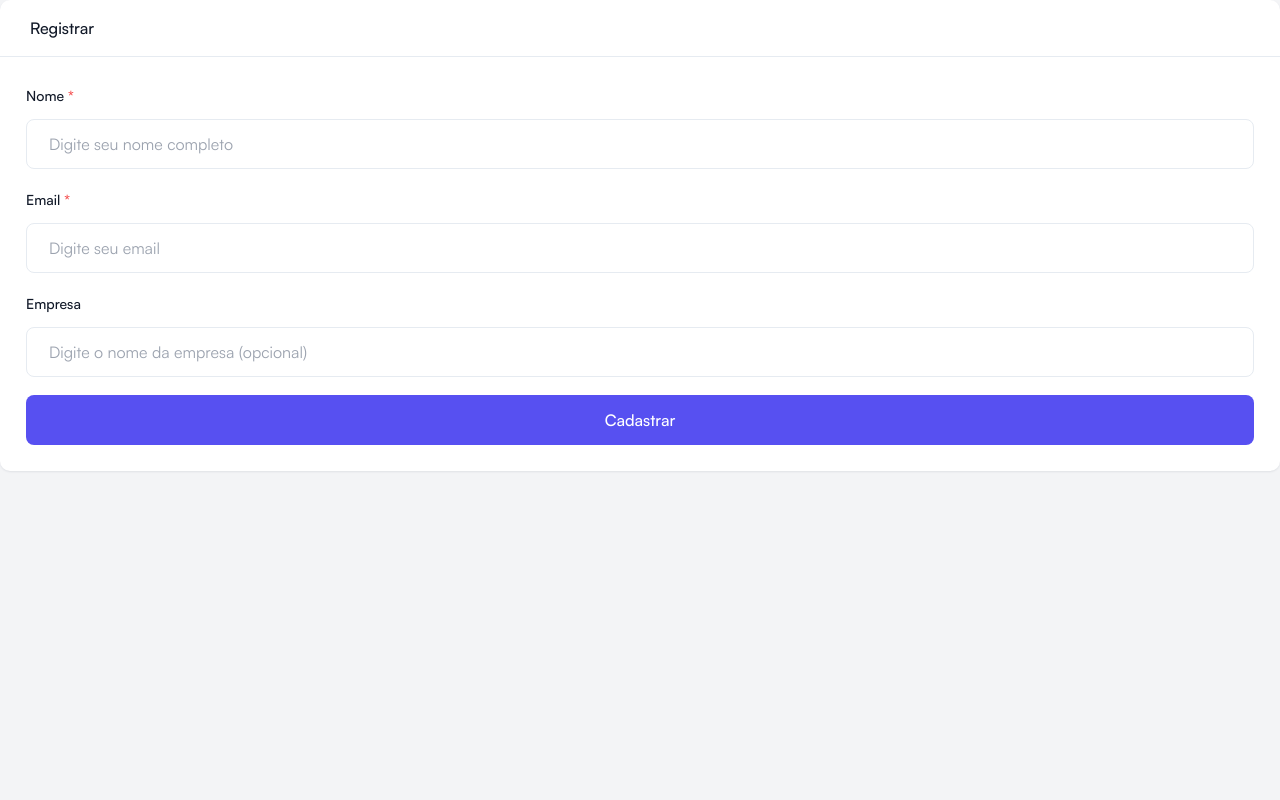
Test: RegisterPage › deve exibir mensagem de erro quando registro falha
Step 1. Type "João Silva" into the field labelled "Nome*" → [640, 144], box [26,119,1254,169]
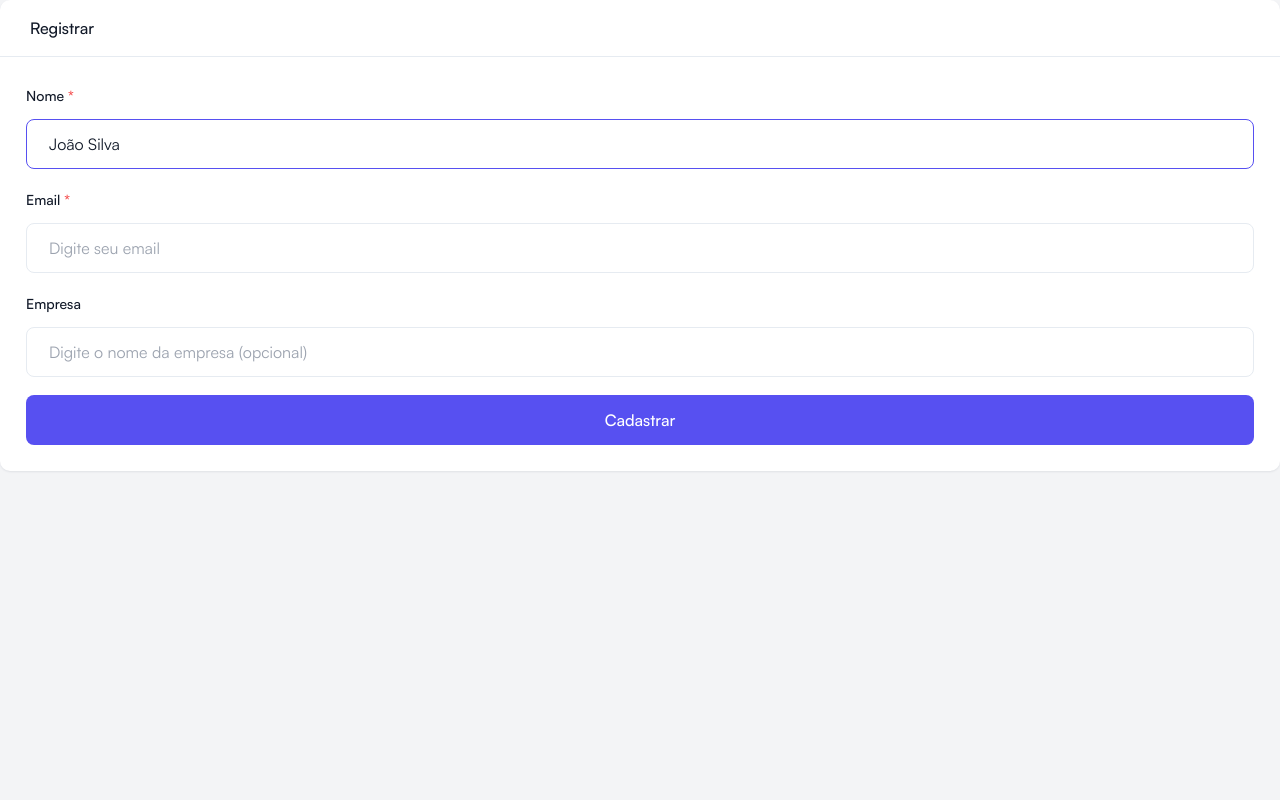
Step 2. Type "joao@example.com" into the field labelled "Email*" → [640, 248], box [26,223,1254,273]
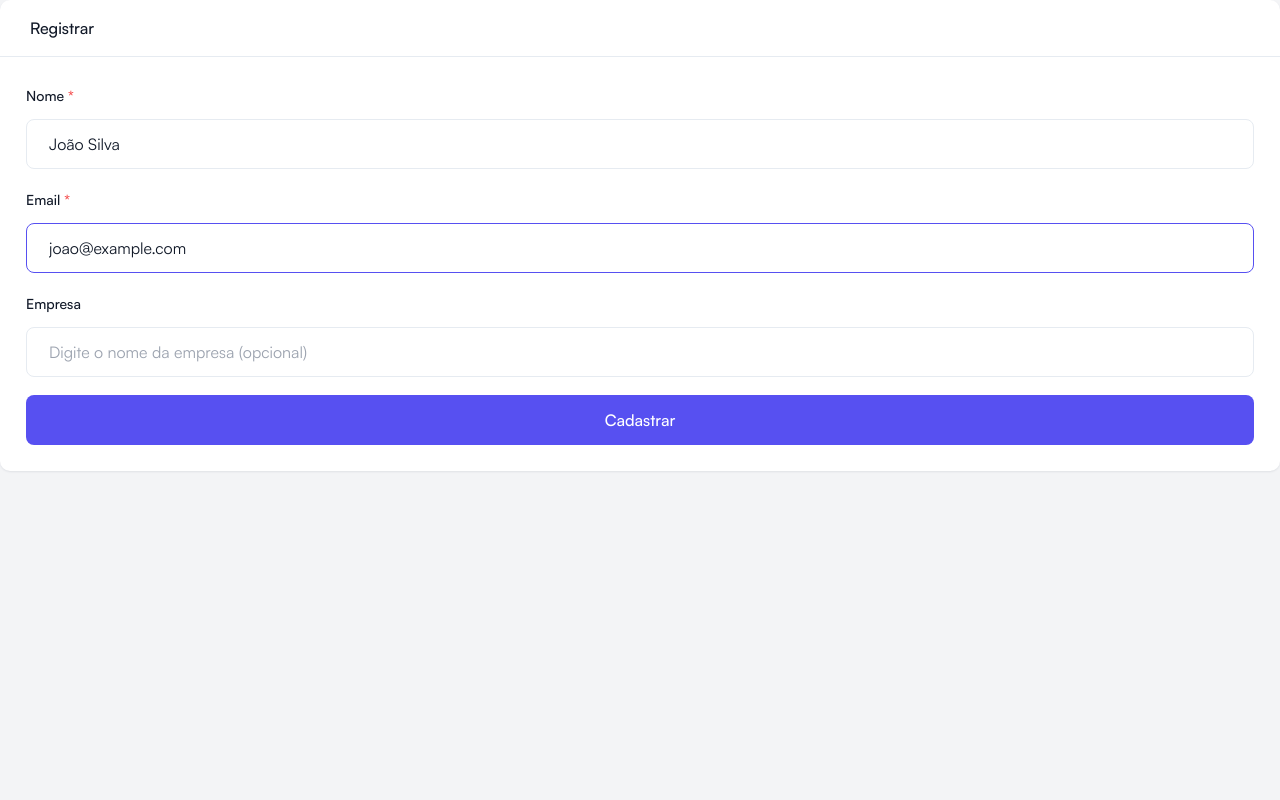
Step 3. Click the button "Cadastrar" → [640, 420], box [26,395,1254,445]
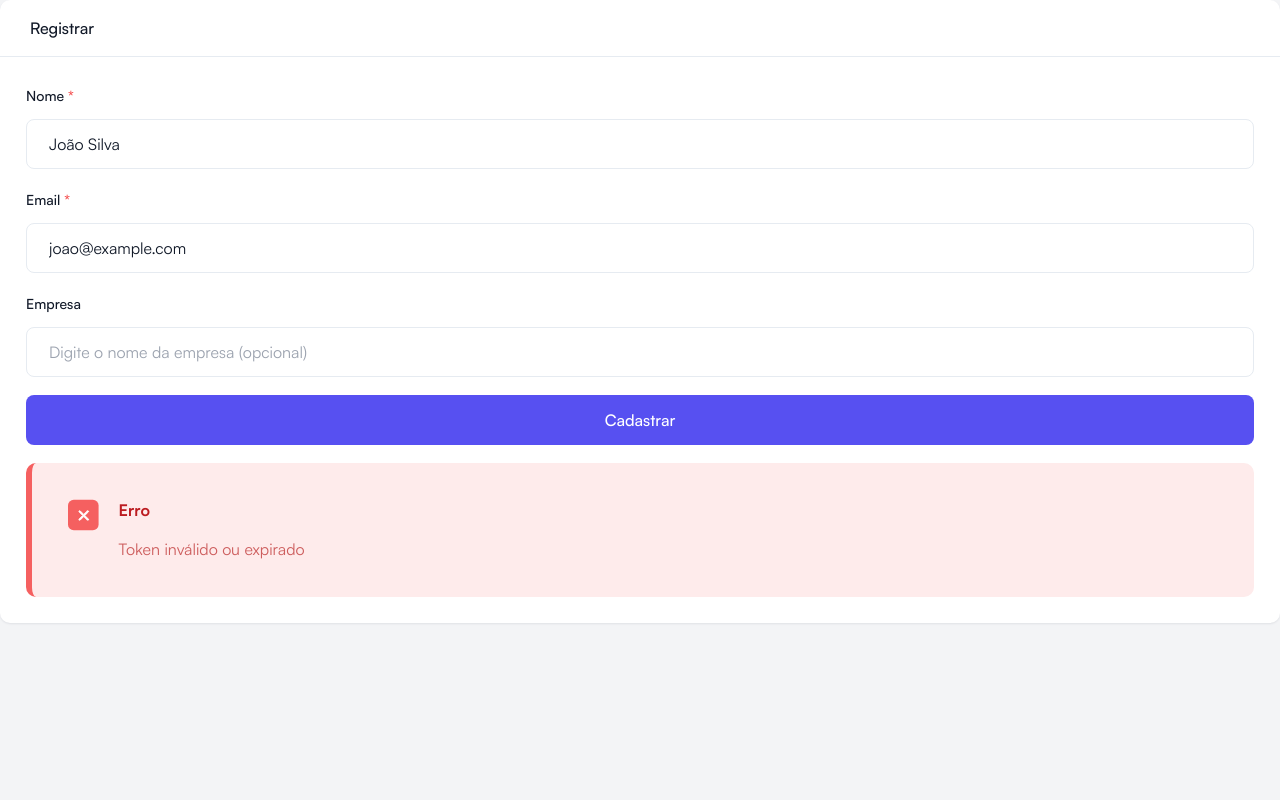
Result: the text "Token inválido ou expirado" is shown at [119,539,305,559]
